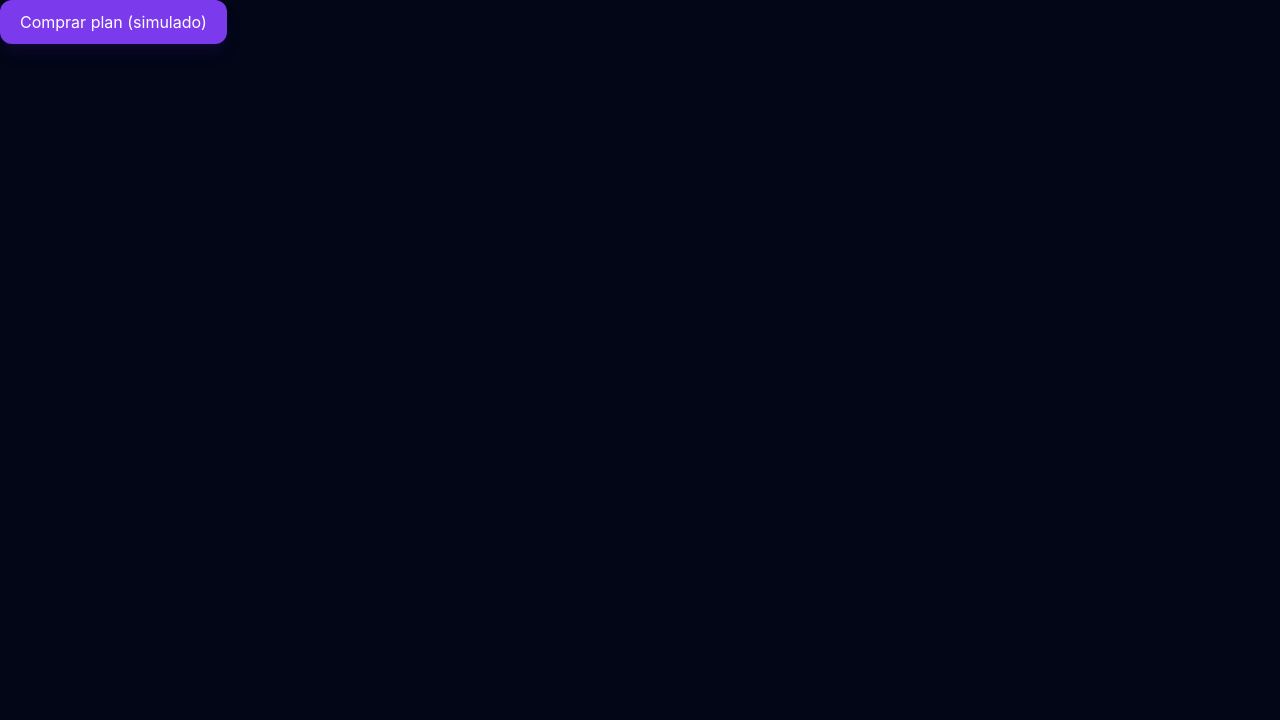
Test: simulated plan purchase › shows server price and benefits, then confirms only after backend receipt
Step 1. Click the button "Comprar plan (simulado)" → (113,22), box [0,0,227,44]
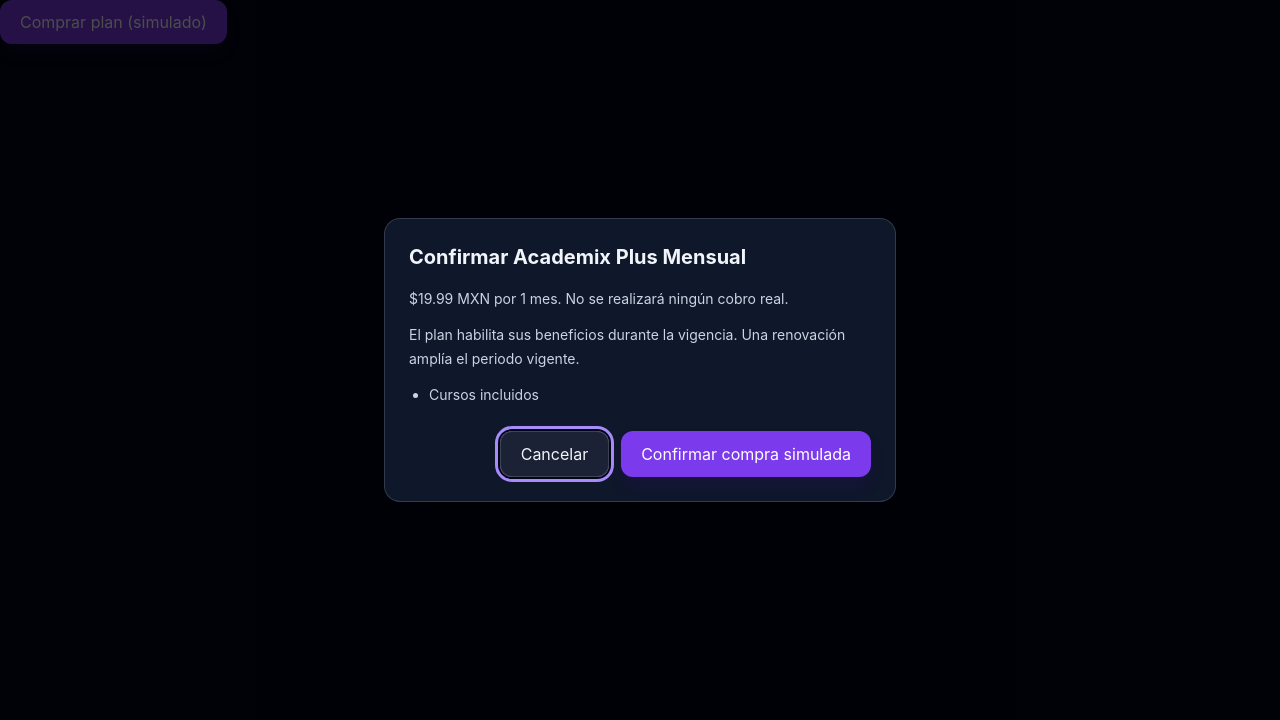
Result: the dialog shows "19.99" at [409,290,490,307]
Result: the dialog shows "Cursos incluidos" at [429,386,539,403]
Step 2. Click the button "Confirmar compra simulada" → (746,454), box [621,431,871,477]
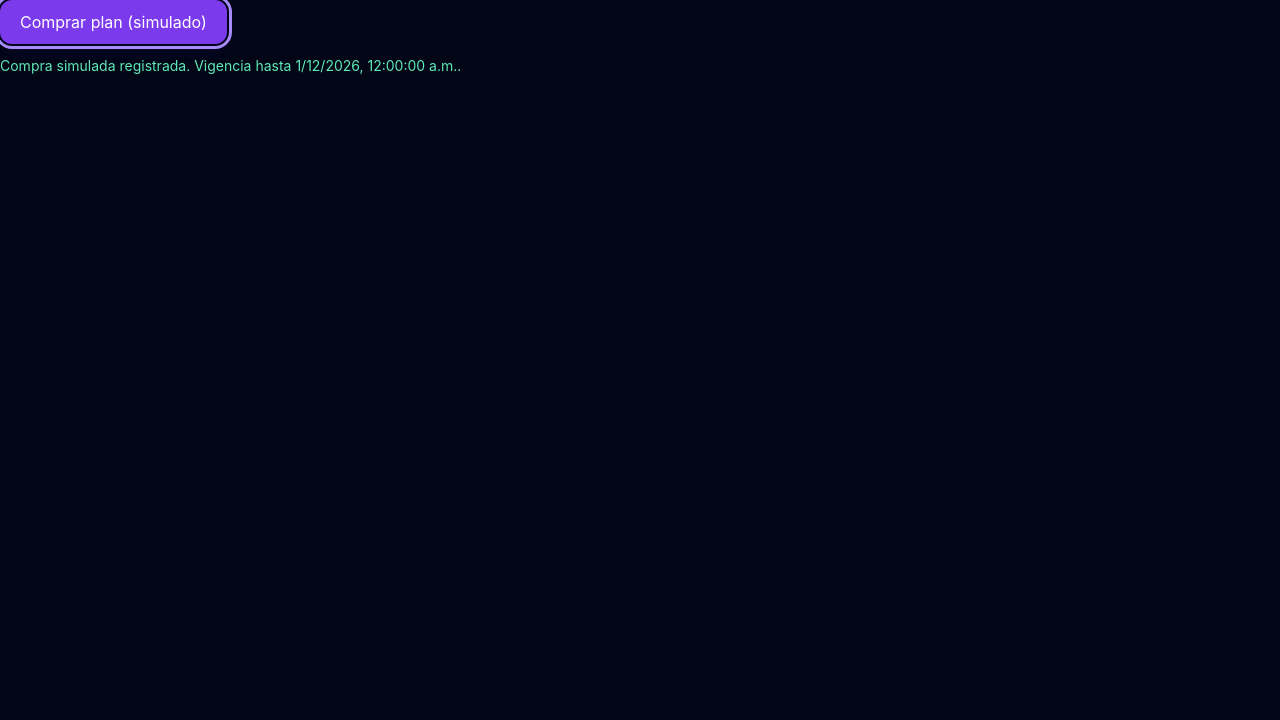
Result: the message shows "Compra simulada registrada" at [0,57,461,74]
